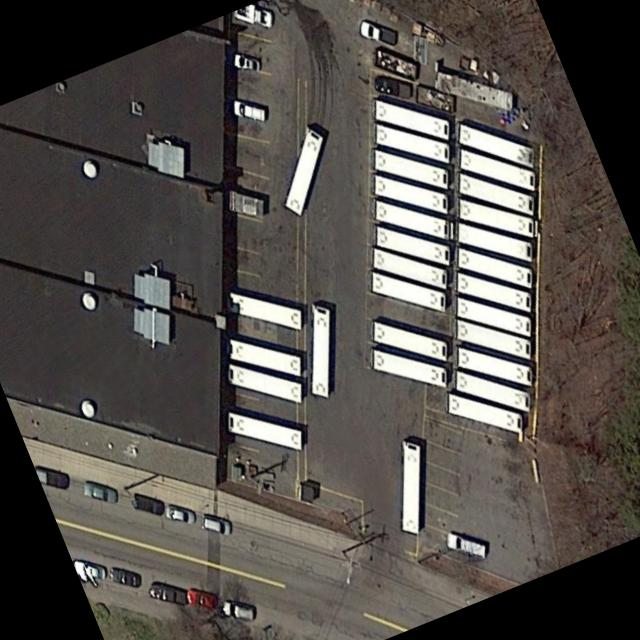large-vehicle: (457, 122, 534, 169), (283, 124, 323, 214), (456, 242, 532, 288), (457, 170, 534, 214), (455, 342, 532, 386), (458, 146, 534, 190), (445, 389, 521, 433), (456, 219, 532, 262), (455, 269, 531, 312), (455, 316, 531, 359), (454, 367, 528, 411), (372, 317, 447, 360), (370, 268, 445, 311), (372, 245, 446, 288), (376, 222, 450, 265), (372, 146, 447, 188), (373, 96, 448, 138), (375, 120, 449, 162), (456, 293, 530, 335), (374, 196, 447, 238), (373, 173, 448, 213), (458, 197, 534, 236), (227, 362, 301, 402), (372, 346, 445, 386), (227, 409, 301, 448), (229, 290, 301, 330), (228, 337, 300, 375), (400, 438, 420, 533), (310, 303, 328, 396)
small-vehicle: (446, 529, 487, 562), (374, 70, 412, 99), (358, 17, 396, 45), (226, 95, 264, 121), (150, 579, 186, 606), (229, 45, 261, 74), (83, 479, 117, 505), (163, 500, 194, 525), (132, 491, 163, 516), (222, 598, 255, 620), (201, 512, 230, 536), (186, 586, 217, 608), (109, 565, 139, 587), (78, 559, 105, 579)
